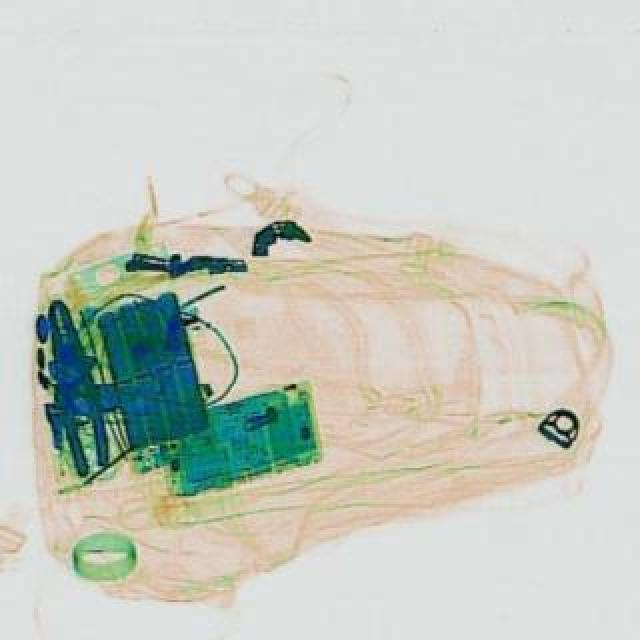wrench: (36, 294, 120, 478)
